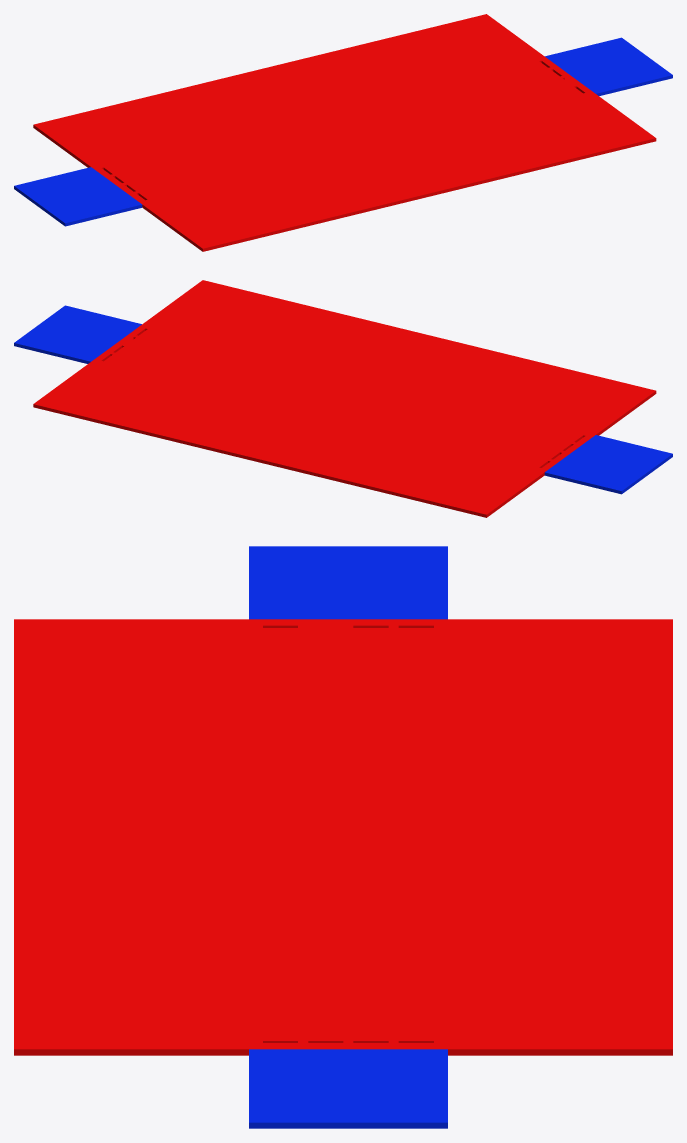
The model's file is Playground_1vs1.fbx.
3 renders of one model, top to bottom at view 1: azimuth 30°, elevation 25°; view 2: azimuth 150°, elevation 25°; view 3: azimuth 270°, elevation 25°, orthographic. The views are drawn at different scales.
Parts seen in each view (by area): view 1: Playground_1vs1; view 2: Playground_1vs1; view 3: Playground_1vs1.
Part boxes in pixels (left/top/right/bottom): Playground_1vs1: left=14, top=14, right=672, bottom=251; Playground_1vs1: left=14, top=280, right=672, bottom=517; Playground_1vs1: left=14, top=546, right=672, bottom=1128.
Size of the model in its own units: 3028 by 15.19 by 1463.
